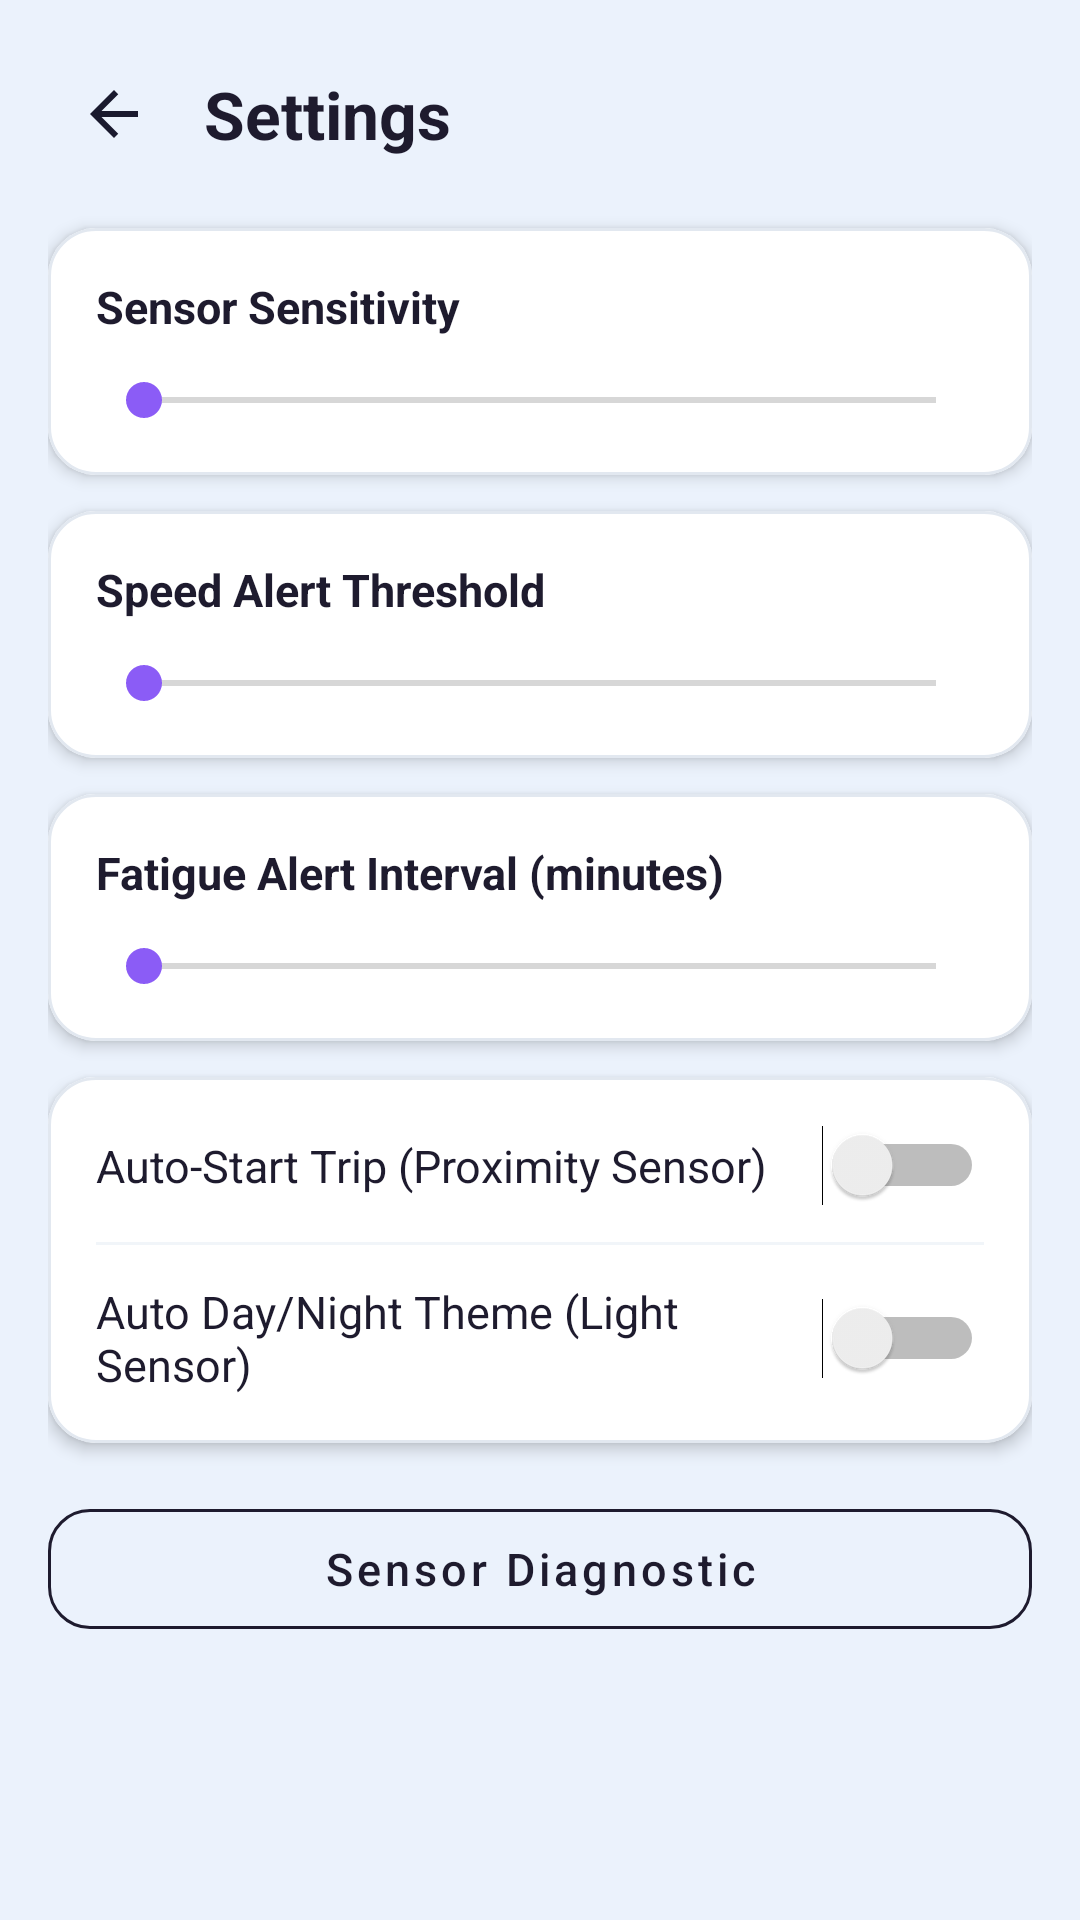

Point at icon controls on the screen. Image size 1080 x 1920, points as point (x, y).
Back: point (114, 114)
